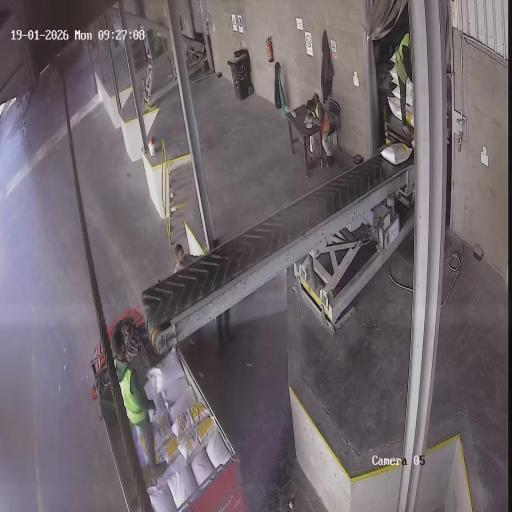c-belt-sack-count: (380, 143, 412, 165)
